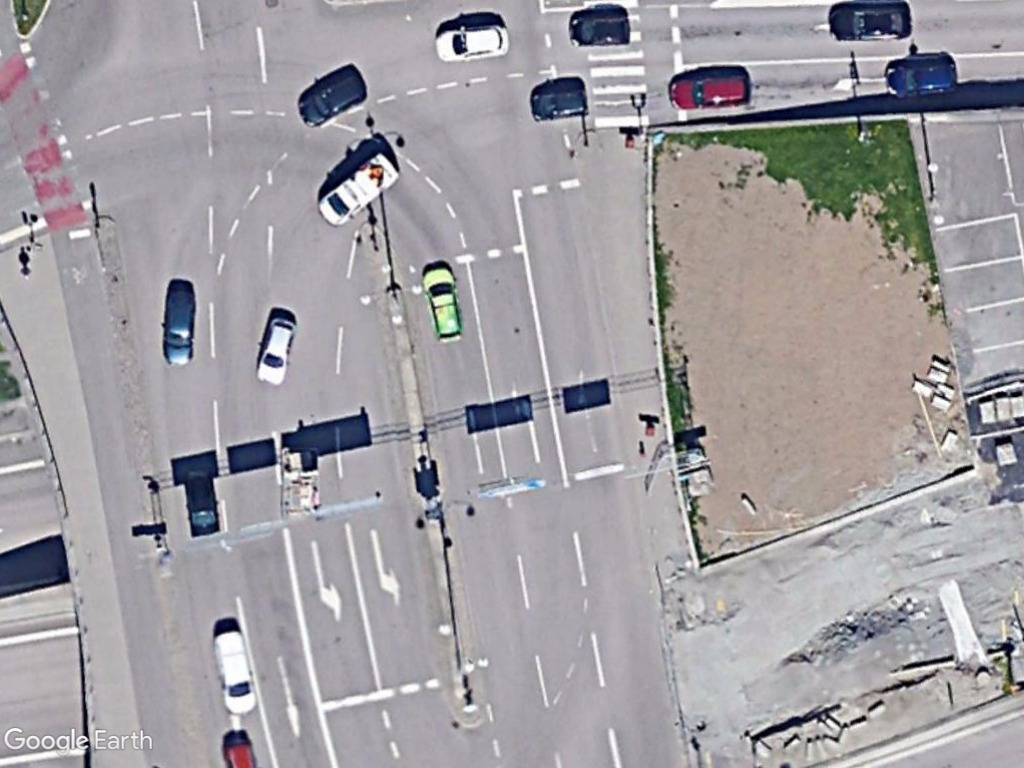car: (291, 67, 371, 133), (664, 65, 754, 117), (877, 48, 962, 101), (418, 263, 468, 352), (428, 18, 517, 67), (824, 2, 920, 47), (248, 310, 299, 391), (157, 283, 202, 373), (565, 10, 642, 53), (524, 81, 593, 128)
van: (314, 149, 401, 233), (210, 627, 261, 722)
